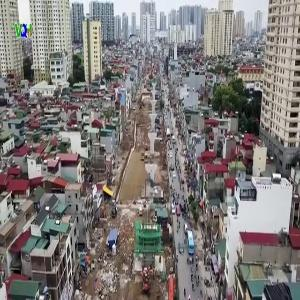drone: (103, 139, 204, 240)
